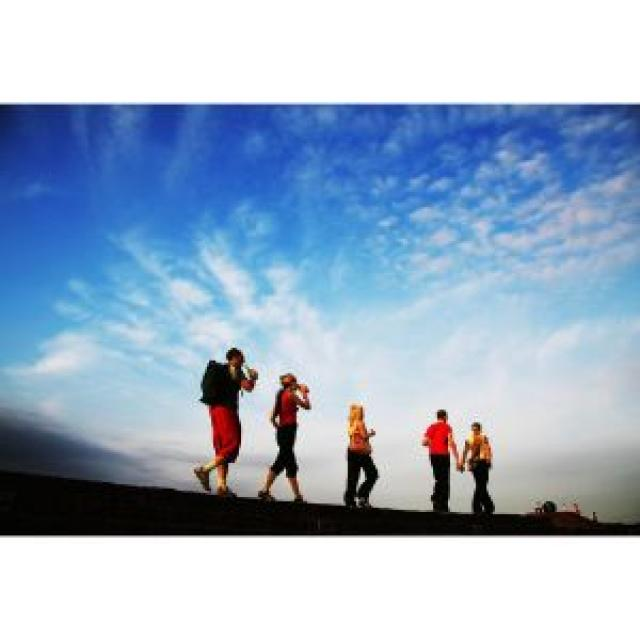nonfall: (182, 334, 258, 494), (268, 366, 320, 496), (465, 410, 507, 519), (338, 396, 374, 514), (429, 402, 468, 504)
